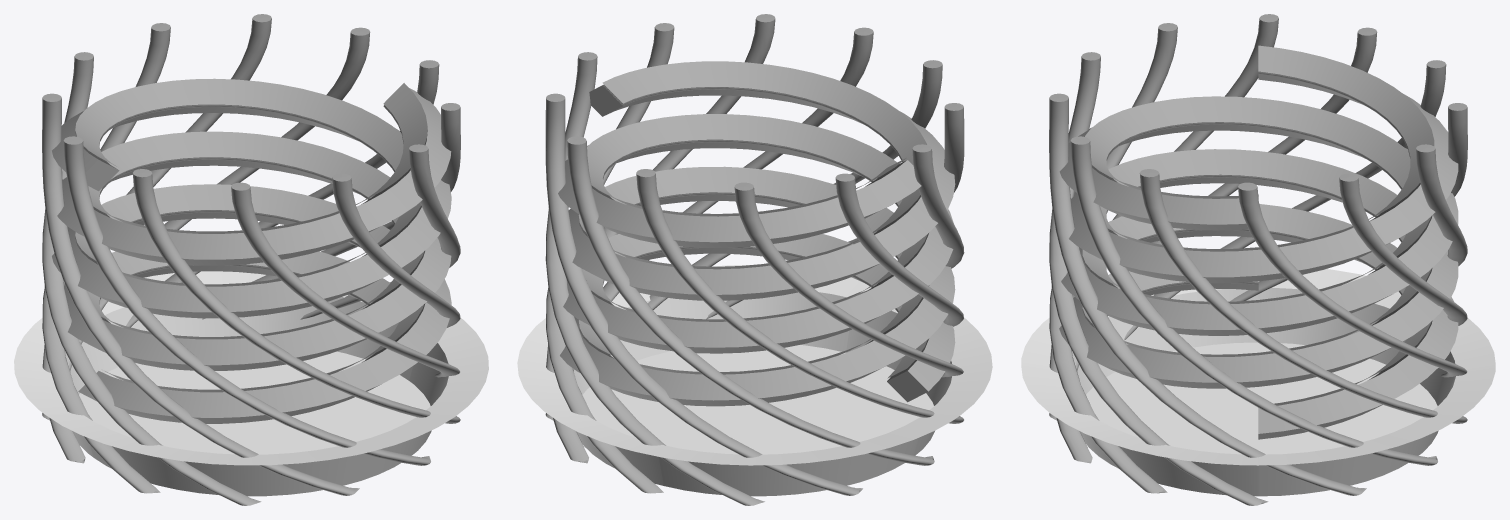
File: SM_Arena_v2.fbx
3 renders of one model, left to right at view 1: azimuth 30°, elevation 25°; view 2: azimuth 150°, elevation 25°; view 3: azimuth 270°, elevation 25°, orthographic.
Parts seen in each view (by area): view 1: SM_ArenaPilars, SM_arena_v2_SM_ArenaBase_V2, Stand_Publiek (×2), SM_Arena_Stand_01, SM_Arena_Stand_02; view 2: SM_ArenaPilars, SM_arena_v2_SM_ArenaBase_V2, Stand_Publiek (×2), SM_Arena_Stand_02, SM_Arena_Stand_01; view 3: SM_ArenaPilars, SM_arena_v2_SM_ArenaBase_V2, Stand_Publiek (×2), SM_Arena_Stand_01, SM_Arena_Stand_02.
Part boxes in pixels (x1=…): SM_ArenaPilars: x1=42, y1=14, x2=460, y2=505; SM_arena_v2_SM_ArenaBase_V2: x1=14, y1=271, x2=488, y2=496; Stand_Publiek (×2): x1=75, y1=78, x2=427, y2=392; SM_Arena_Stand_01: x1=52, y1=104, x2=451, y2=423; SM_Arena_Stand_02: x1=57, y1=88, x2=451, y2=370; SM_ArenaPilars: x1=545, y1=14, x2=964, y2=505; SM_arena_v2_SM_ArenaBase_V2: x1=517, y1=265, x2=992, y2=496; Stand_Publiek (×2): x1=578, y1=61, x2=927, y2=378; SM_Arena_Stand_02: x1=560, y1=84, x2=955, y2=406; SM_Arena_Stand_01: x1=558, y1=139, x2=955, y2=402; SM_ArenaPilars: x1=1049, y1=14, x2=1467, y2=505; SM_arena_v2_SM_ArenaBase_V2: x1=1021, y1=269, x2=1495, y2=496; Stand_Publiek (×2): x1=1082, y1=45, x2=1434, y2=405; SM_Arena_Stand_01: x1=1059, y1=71, x2=1458, y2=388; SM_Arena_Stand_02: x1=1059, y1=122, x2=1458, y2=439.
Size of the model in its own units: 163 by 120 by 163.
